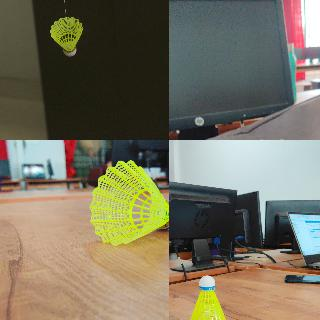shuttlecock: (88, 160, 168, 247), (189, 275, 228, 319), (49, 16, 82, 56)
